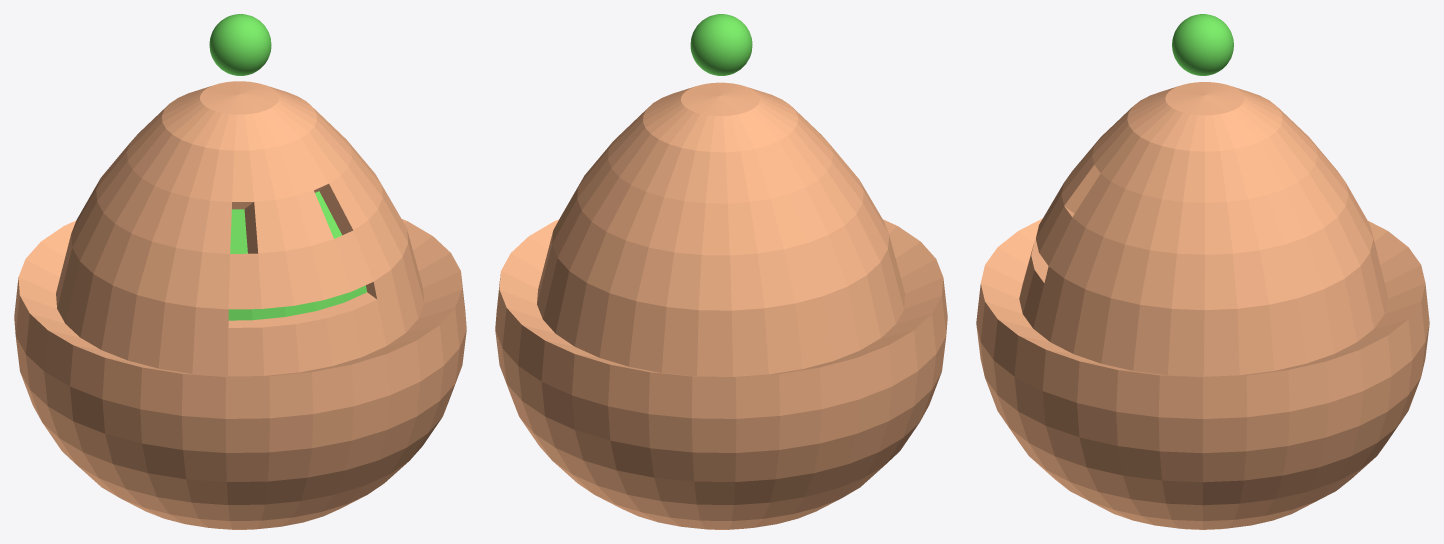
File: version0.glb
The picture shows the model from 3 angles, left to right: view 1: azimuth 30°, elevation 25°; view 2: azimuth 150°, elevation 25°; view 3: azimuth 270°, elevation 25°; orthographic projection.
Parts seen in each view (by area): view 1: Version0, Version0Antern, Version0Face; view 2: Version0, Version0Antern; view 3: Version0, Version0Antern.
Boxes of the visible parts, bbox=[...] form: Version0: bbox=[14, 81, 466, 529]; Version0Antern: bbox=[209, 14, 271, 75]; Version0Face: bbox=[228, 191, 366, 320]; Version0: bbox=[495, 82, 947, 529]; Version0Antern: bbox=[690, 14, 752, 75]; Version0: bbox=[976, 82, 1429, 529]; Version0Antern: bbox=[1172, 14, 1233, 75].
Size of the model in its own units: 2.23 by 2.67 by 2.23.
